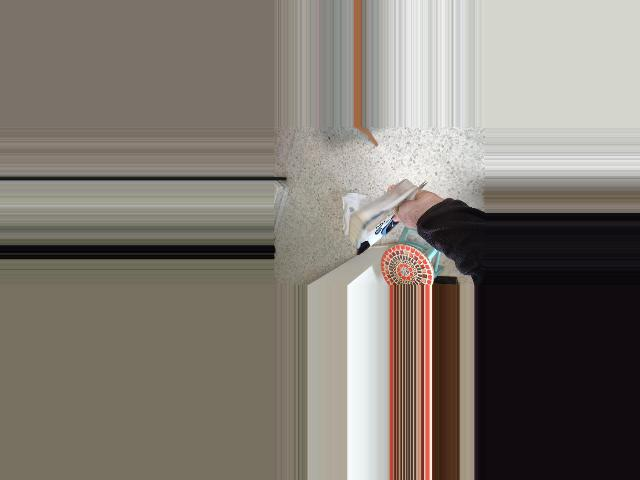cheese: (335, 170, 440, 266)
